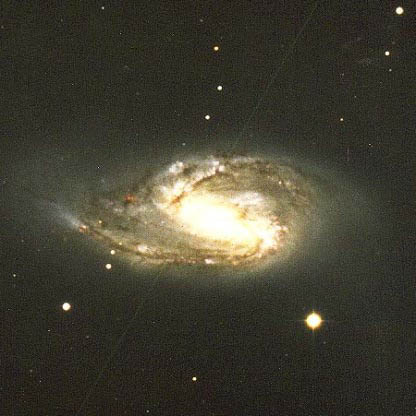Messier 66: (41, 151, 359, 347)
